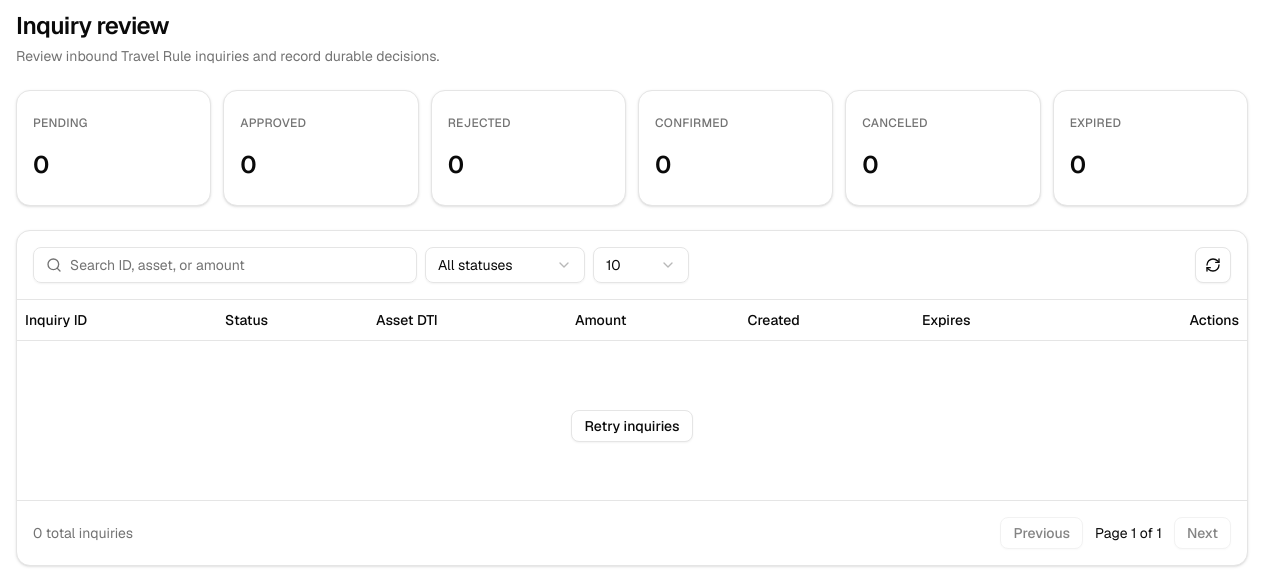
Scenario: renders list error and empty states with a retry action
Click the button "Retry inquiries" at (632, 426), box [571, 410, 692, 442]
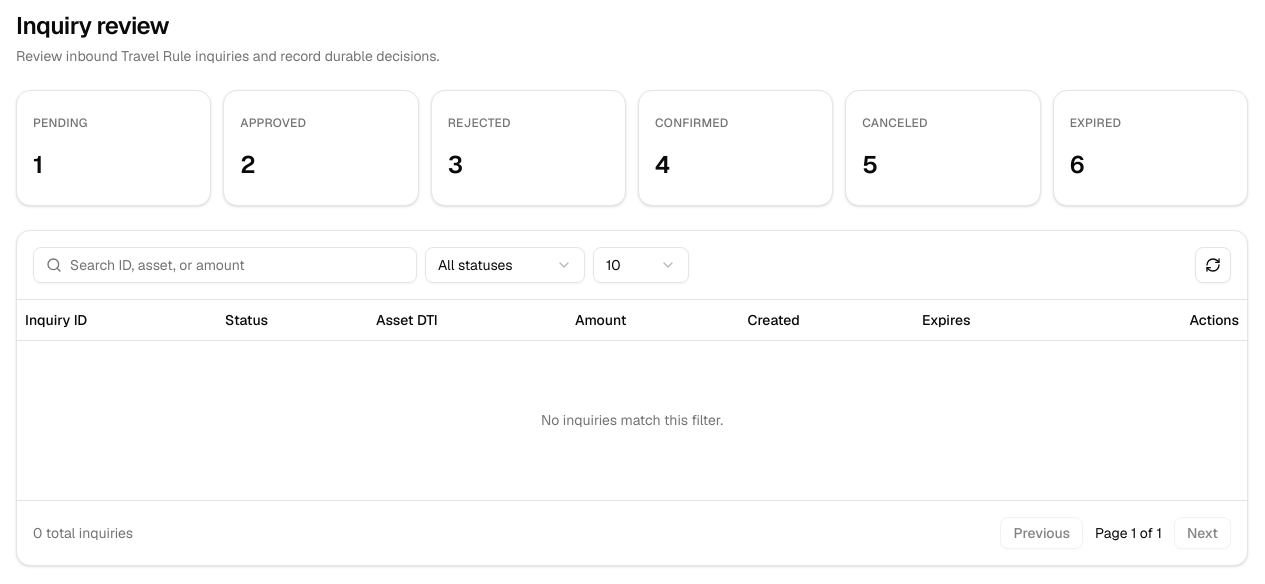
Check: the button with aria-label "Previous page" is disabled, box [1000, 517, 1083, 549]
Check: the text "No inquiries match this filter." is shown, box [17, 340, 1247, 500]
